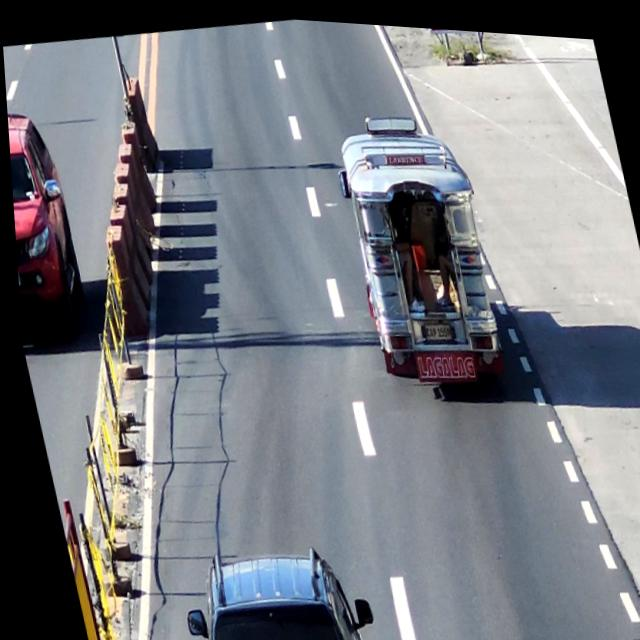Car: (177, 532, 369, 640)
Jeep: (324, 94, 513, 410)
License-Plate: (416, 313, 458, 346)
